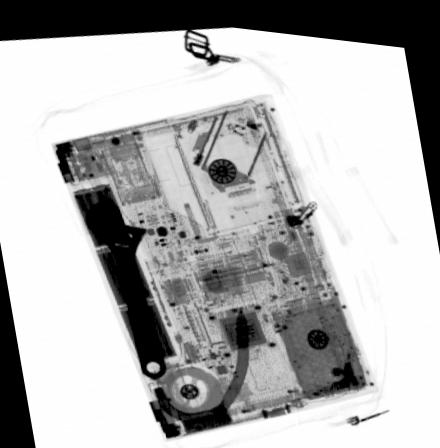Wrench: (82, 189, 167, 375)
